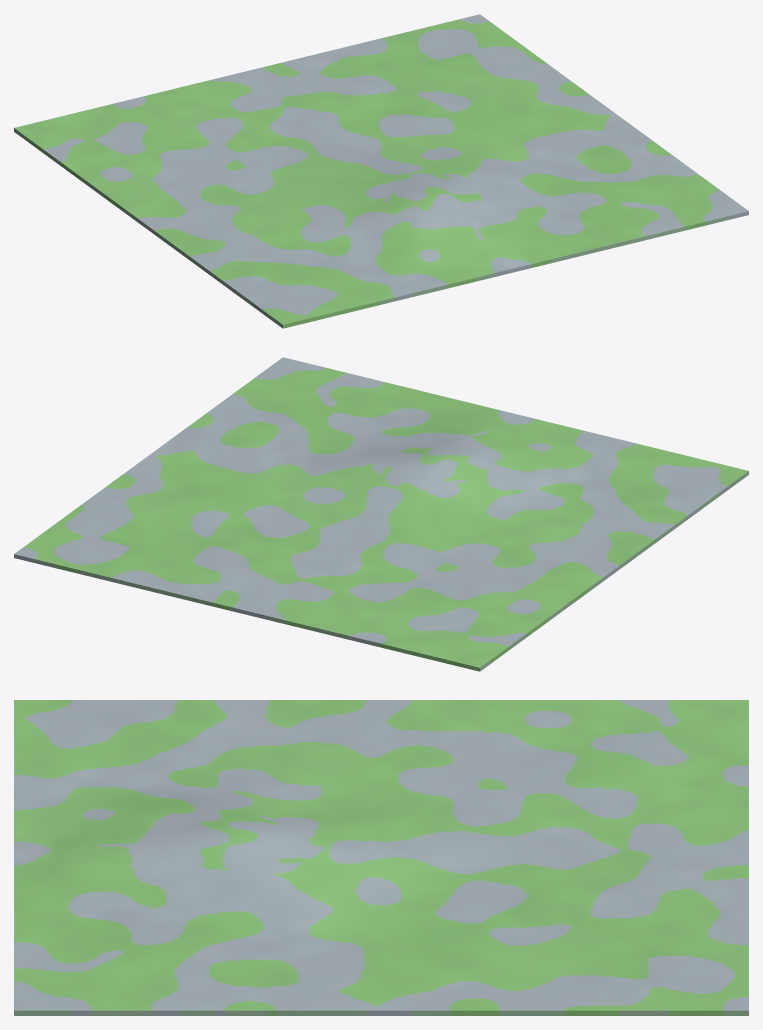
The model's file is Grass_RockyGround_04.obj.
The picture shows the model from 3 angles, top to bottom: view 1: azimuth 30°, elevation 25°; view 2: azimuth 150°, elevation 25°; view 3: azimuth 270°, elevation 25°; orthographic projection. The views are drawn at different scales.
Bounding box in the file's own units: 10 × 0.4153 × 10.
1 material, 1 textured.
